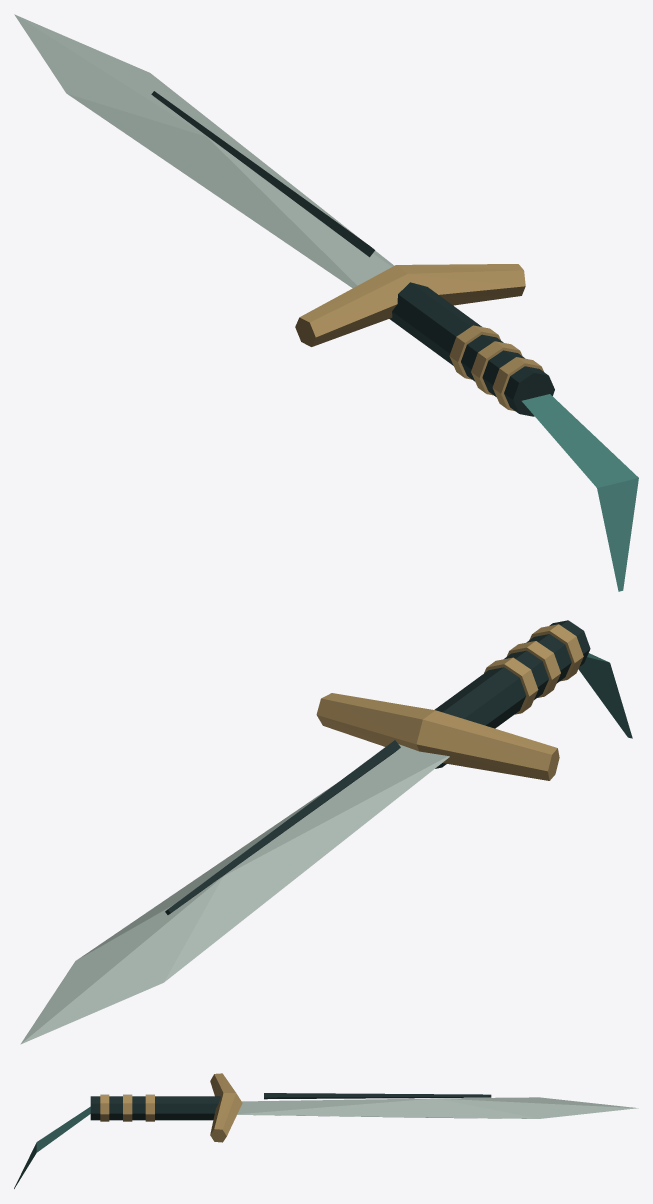
File: long_sword.glb
The picture shows the model from 3 angles, top to bottom: view 1: azimuth 30°, elevation 25°; view 2: azimuth 150°, elevation 25°; view 3: azimuth 270°, elevation 25°; orthographic projection. The views are drawn at different scales.
Visible parts, largest first — view 1: BladeMesh; view 2: BladeMesh; view 3: BladeMesh.
Boxes of the visible parts, box(x1,y1,x2,y2) form: BladeMesh: box(14, 14, 638, 591); BladeMesh: box(20, 620, 632, 1044); BladeMesh: box(14, 1073, 638, 1188).
Size of the model in its own units: 0.4703 by 0.359 by 2.2.
